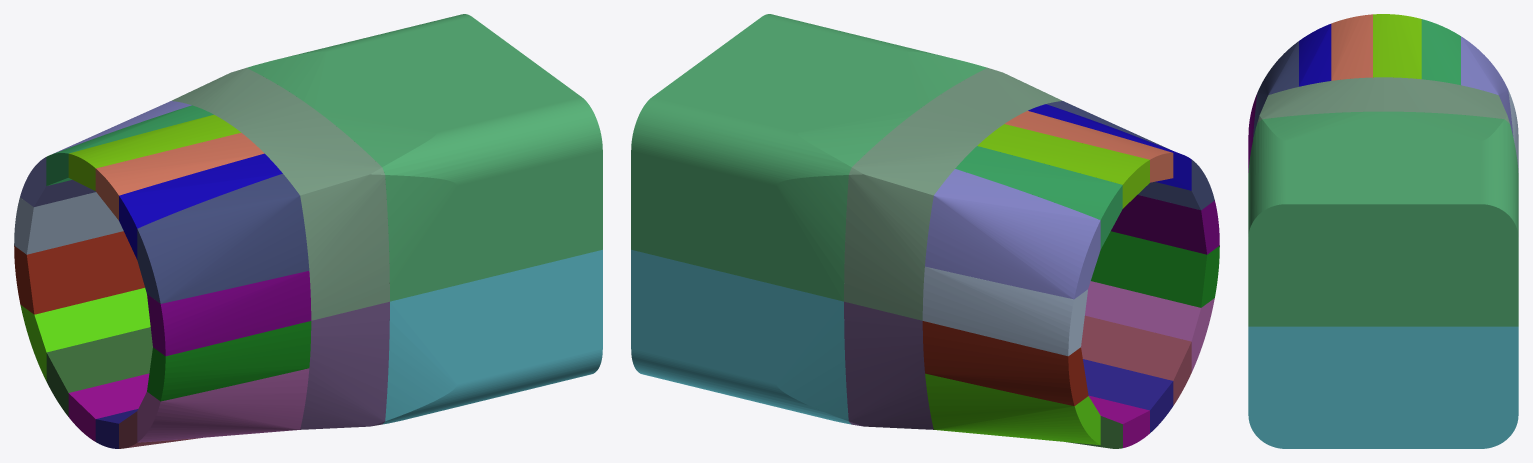
File: 4_canonical.obj
The picture shows the model from 3 angles, left to right: view 1: azimuth 30°, elevation 25°; view 2: azimuth 150°, elevation 25°; view 3: azimuth 270°, elevation 25°; orthographic projection. The views are drawn at different scales.
Visible parts, largest first — view 1: geometry_3, geometry_2, geometry_0, geometry_16, geometry_1, geometry_11, geometry_7, geometry_8, geometry_15, geometry_5, geometry_17, geometry_9 (+8 smaller); view 2: geometry_3, geometry_2, geometry_0, geometry_12, geometry_1, geometry_6, geometry_15, geometry_17, geometry_8, geometry_10, geometry_4, geometry_13 (+8 smaller); view 3: geometry_3, geometry_2, geometry_0, geometry_4, geometry_9, geometry_10, geometry_12, geometry_5, geometry_16, geometry_6, geometry_11.
Boxes of the visible parts, x1,y1,x2,y2 form: geometry_3: (246, 14, 602, 301); geometry_2: (382, 249, 602, 424); geometry_0: (171, 68, 389, 320); geometry_16: (137, 173, 309, 303); geometry_1: (300, 301, 389, 429); geometry_11: (147, 271, 311, 356); geometry_7: (137, 368, 309, 442); geometry_8: (147, 321, 311, 401); geometry_15: (14, 231, 144, 314); geometry_5: (119, 153, 282, 259); geometry_17: (20, 288, 150, 381); geometry_9: (95, 132, 264, 220); geometry_3: (631, 14, 987, 301); geometry_2: (631, 249, 851, 424); geometry_0: (844, 68, 1062, 320); geometry_12: (925, 169, 1100, 299); geometry_1: (844, 301, 933, 429); geometry_6: (922, 266, 1087, 356); geometry_15: (922, 321, 1088, 406); geometry_17: (925, 373, 1100, 445); geometry_8: (1091, 231, 1219, 307); geometry_10: (955, 146, 1122, 248); geometry_4: (977, 124, 1149, 208); geometry_13: (1081, 315, 1191, 405); geometry_3: (1248, 111, 1518, 326); geometry_2: (1248, 326, 1518, 448); geometry_0: (1257, 77, 1509, 123); geometry_4: (1373, 14, 1421, 79); geometry_9: (1331, 14, 1372, 80); geometry_10: (1421, 19, 1460, 85); geometry_12: (1461, 36, 1513, 136); geometry_5: (1299, 24, 1331, 86); geometry_16: (1253, 41, 1298, 139); geometry_6: (1508, 90, 1518, 172); geometry_11: (1248, 93, 1257, 172).
Bounding box in the file's own units: 0.03 × 0.018 × 0.018.
